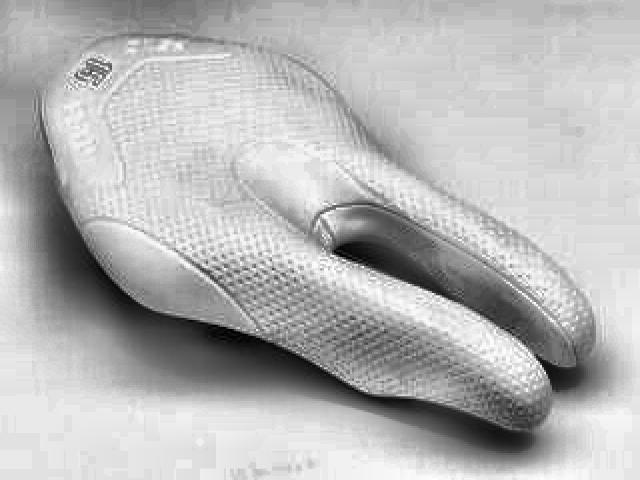saddle: (37, 29, 600, 440)
